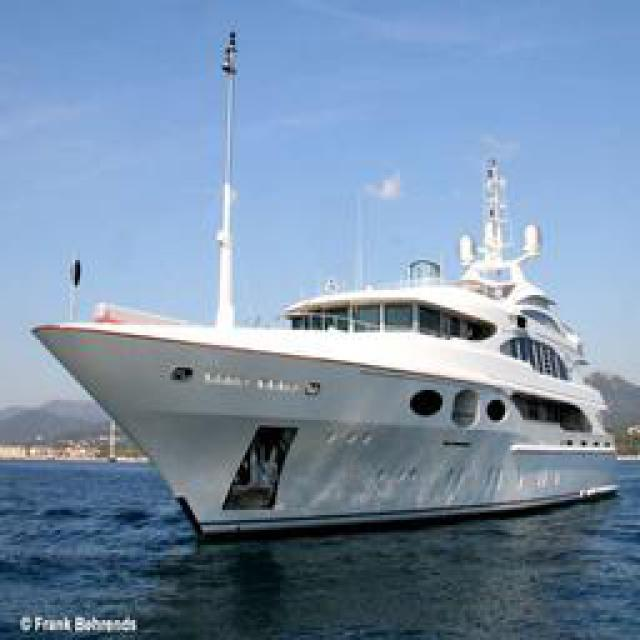Ship: (38, 105, 616, 538)
